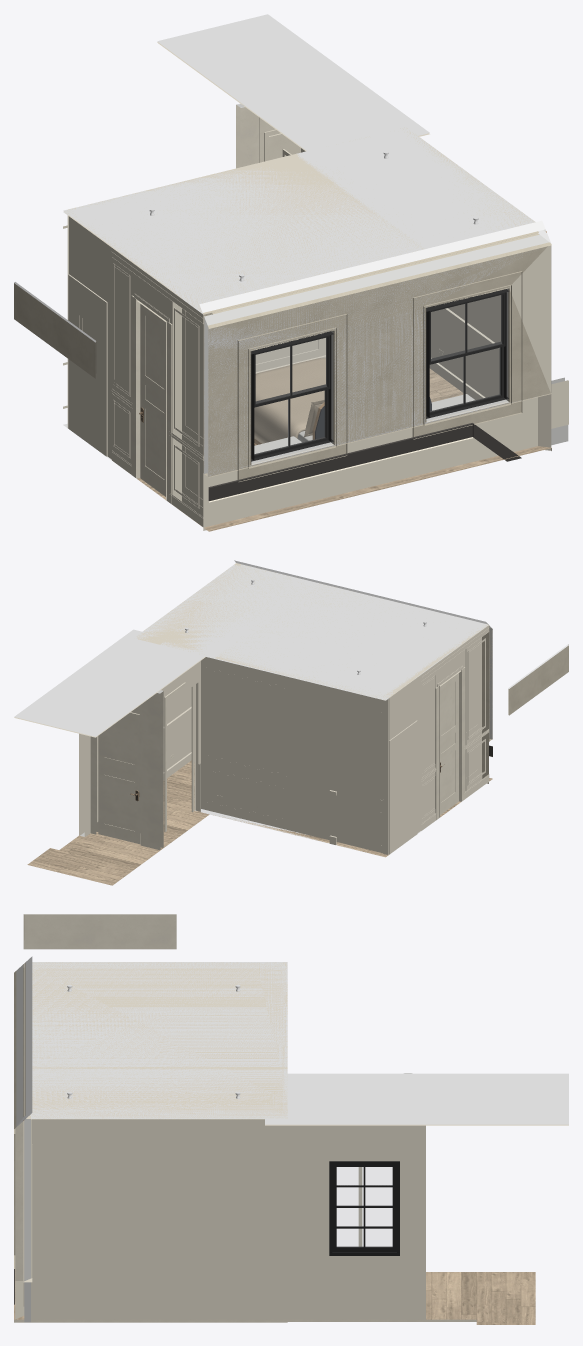
Rendered from blue-bedroom-9137c5ab1072.glb.
3 views of the same model, one above another, from view 1: azimuth 30°, elevation 25°; view 2: azimuth 150°, elevation 25°; view 3: azimuth 270°, elevation 25° (orthographic). The views are drawn at different scales.
Visible parts, largest first — view 1: blue-bedroom-9d91b47435c6fb33, blue-bedroom-bddaf205afbd60c0, blue-bedroom-look-9d91b47435c6fb33, blue-bedroom-e8793759323e04f0, blue-bedroom-df3e1f21720b0c39, blue-bedroom-2f7d8eff34a2c180, blue-bedroom-ed5fdcd3ee9c0dd5, blue-bedroom-3c3de67e8dd93323, blue-bedroom-649b3532e9781727, blue-bedroom-64753ebcb3824a84, blue-bedroom-ead09a0b3f9e3bd9, blue-bedroom-746250f96522f643 (+17 smaller); view 2: blue-bedroom-6e269356ae8bfd70, blue-bedroom-9d91b47435c6fb33, blue-bedroom-look-9d91b47435c6fb33, blue-bedroom-ed5fdcd3ee9c0dd5, blue-bedroom-e8793759323e04f0, blue-bedroom-look-2575515a05775d9e, blue-bedroom-look-dcc0092055abeaa8, blue-bedroom-look-eb02897c2e79e2b1, blue-bedroom-ead09a0b3f9e3bd9, blue-bedroom-3e649b0d114ae387, blue-bedroom-bf159a19de53e60e, blue-bedroom-746250f96522f643 (+13 smaller); view 3: blue-bedroom-746250f96522f643, blue-bedroom-9d91b47435c6fb33, blue-bedroom-e8793759323e04f0, blue-bedroom-look-746250f96522f643, blue-bedroom-look-9d91b47435c6fb33, blue-bedroom-look-5035c6783c6505b3, blue-bedroom-look-2575515a05775d9e, blue-bedroom-look-3a4d9d62ecd7be1c, blue-bedroom-0a6e1f8a567f4490, blue-bedroom-64753ebcb3824a84, blue-bedroom-2575515a05775d9e, blue-bedroom-49f6d498b24b79cd.
Part boxes in pixels (x1=…): blue-bedroom-9d91b47435c6fb33: x1=63, y1=127, x2=538, y2=314; blue-bedroom-bddaf205afbd60c0: x1=207, y1=242, x2=550, y2=476; blue-bedroom-look-9d91b47435c6fb33: x1=157, y1=14, x2=429, y2=151; blue-bedroom-e8793759323e04f0: x1=64, y1=127, x2=545, y2=312; blue-bedroom-df3e1f21720b0c39: x1=208, y1=243, x2=551, y2=475; blue-bedroom-2f7d8eff34a2c180: x1=203, y1=393, x2=551, y2=530; blue-bedroom-ed5fdcd3ee9c0dd5: x1=67, y1=215, x2=181, y2=500; blue-bedroom-3c3de67e8dd93323: x1=251, y1=330, x2=333, y2=461; blue-bedroom-649b3532e9781727: x1=426, y1=289, x2=509, y2=418; blue-bedroom-64753ebcb3824a84: x1=204, y1=234, x2=548, y2=476; blue-bedroom-ead09a0b3f9e3bd9: x1=68, y1=274, x2=107, y2=456; blue-bedroom-746250f96522f643: x1=431, y1=295, x2=500, y2=397; blue-bedroom-6e269356ae8bfd70: x1=200, y1=656, x2=389, y2=855; blue-bedroom-9d91b47435c6fb33: x1=134, y1=564, x2=488, y2=700; blue-bedroom-look-9d91b47435c6fb33: x1=14, y1=629, x2=205, y2=737; blue-bedroom-ed5fdcd3ee9c0dd5: x1=382, y1=641, x2=465, y2=854; blue-bedroom-e8793759323e04f0: x1=136, y1=560, x2=488, y2=699; blue-bedroom-look-2575515a05775d9e: x1=27, y1=803, x2=209, y2=885; blue-bedroom-look-dcc0092055abeaa8: x1=98, y1=712, x2=140, y2=844; blue-bedroom-look-eb02897c2e79e2b1: x1=90, y1=690, x2=163, y2=850; blue-bedroom-ead09a0b3f9e3bd9: x1=389, y1=720, x2=417, y2=854; blue-bedroom-3e649b0d114ae387: x1=465, y1=625, x2=488, y2=790; blue-bedroom-bf159a19de53e60e: x1=440, y1=673, x2=458, y2=814; blue-bedroom-746250f96522f643: x1=161, y1=672, x2=191, y2=771; blue-bedroom-746250f96522f643: x1=32, y1=1119, x2=287, y2=1319; blue-bedroom-9d91b47435c6fb33: x1=24, y1=962, x2=287, y2=1119; blue-bedroom-e8793759323e04f0: x1=25, y1=956, x2=287, y2=1118; blue-bedroom-look-746250f96522f643: x1=287, y1=1125, x2=425, y2=1319; blue-bedroom-look-9d91b47435c6fb33: x1=265, y1=1073, x2=568, y2=1125; blue-bedroom-look-5035c6783c6505b3: x1=329, y1=1161, x2=399, y2=1255; blue-bedroom-look-2575515a05775d9e: x1=287, y1=1272, x2=535, y2=1324; blue-bedroom-look-3a4d9d62ecd7be1c: x1=23, y1=914, x2=176, y2=949; blue-bedroom-0a6e1f8a567f4490: x1=15, y1=1121, x2=22, y2=1281; blue-bedroom-64753ebcb3824a84: x1=16, y1=964, x2=23, y2=1126; blue-bedroom-2575515a05775d9e: x1=14, y1=1269, x2=287, y2=1322; blue-bedroom-49f6d498b24b79cd: x1=24, y1=1118, x2=30, y2=1281.
Bounding box in the file's own units: 6.73 × 3.04 × 7.3.
36 materials, 9 textured.
